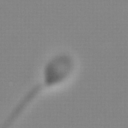normal: (1, 79, 47, 128)
